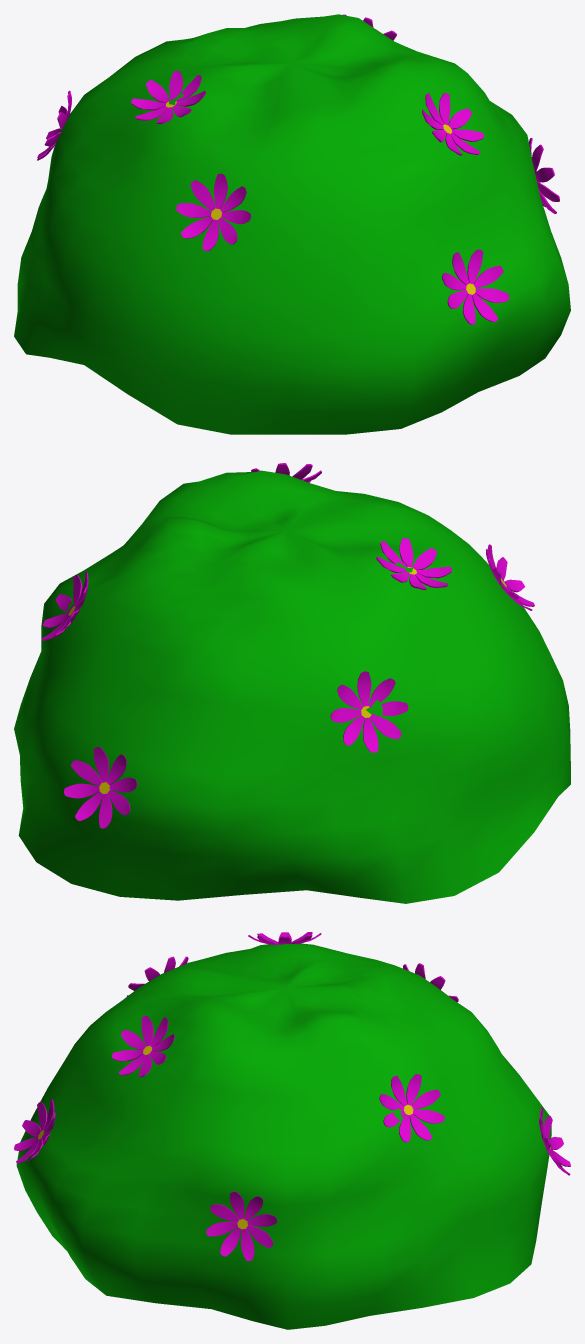
Rendered from cali3.fbx.
3 renders of one model, top to bottom at view 1: azimuth 30°, elevation 25°; view 2: azimuth 150°, elevation 25°; view 3: azimuth 270°, elevation 25°, orthographic. The views are drawn at different scales.
Parts seen in each view (by area): view 1: cali2_root1_cali2; view 2: cali2_root1_cali2; view 3: cali2_root1_cali2.
Part boxes in pixels (x1,y1,x2,y2): cali2_root1_cali2: [14, 14, 570, 434]; cali2_root1_cali2: [14, 463, 570, 903]; cali2_root1_cali2: [14, 932, 570, 1329].
Size of the model in its own units: 1.92 by 1.06 by 2.12.
